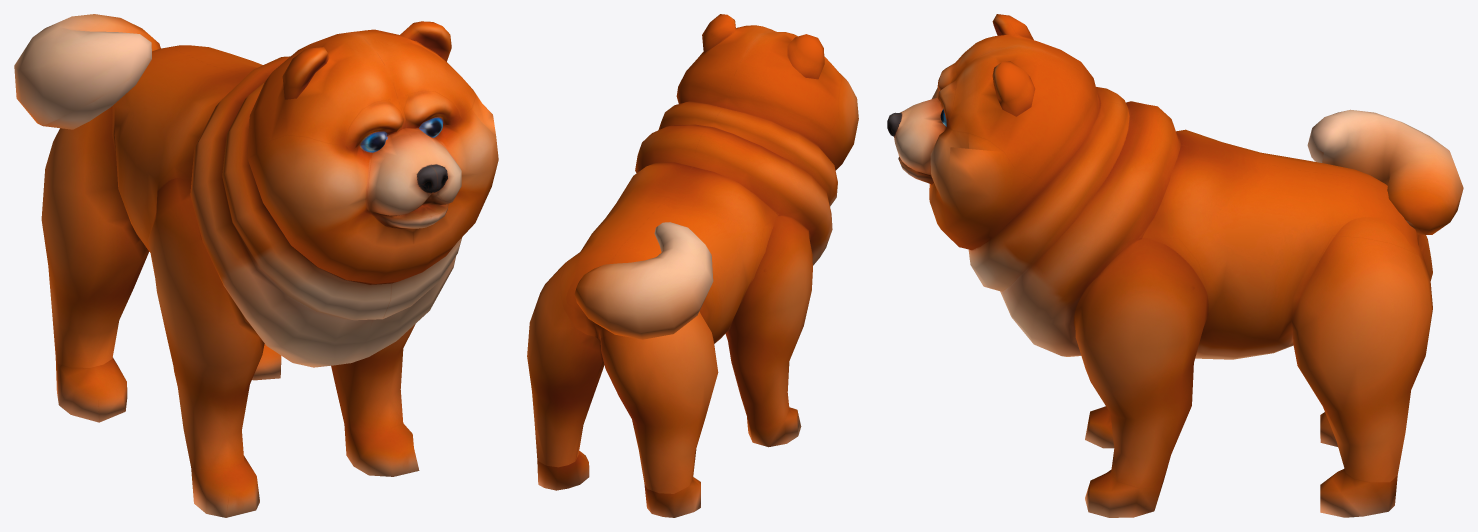
File: RedDog.obj
3 views of the same model, side by side, from view 1: azimuth 30°, elevation 25°; view 2: azimuth 150°, elevation 25°; view 3: azimuth 270°, elevation 25° (orthographic). The views are drawn at different scales.
Parts seen in each view (by area): view 1: Malla de Group24122; view 2: Malla de Group24122; view 3: Malla de Group24122.
Boxes of the visible parts, bbox=[...] form: Malla de Group24122: bbox=[14, 14, 498, 517]; Malla de Group24122: bbox=[527, 14, 858, 517]; Malla de Group24122: bbox=[887, 14, 1463, 517].
Size of the model in its own units: 0.3586 by 0.6616 by 0.7947.
1 material, 1 textured.
